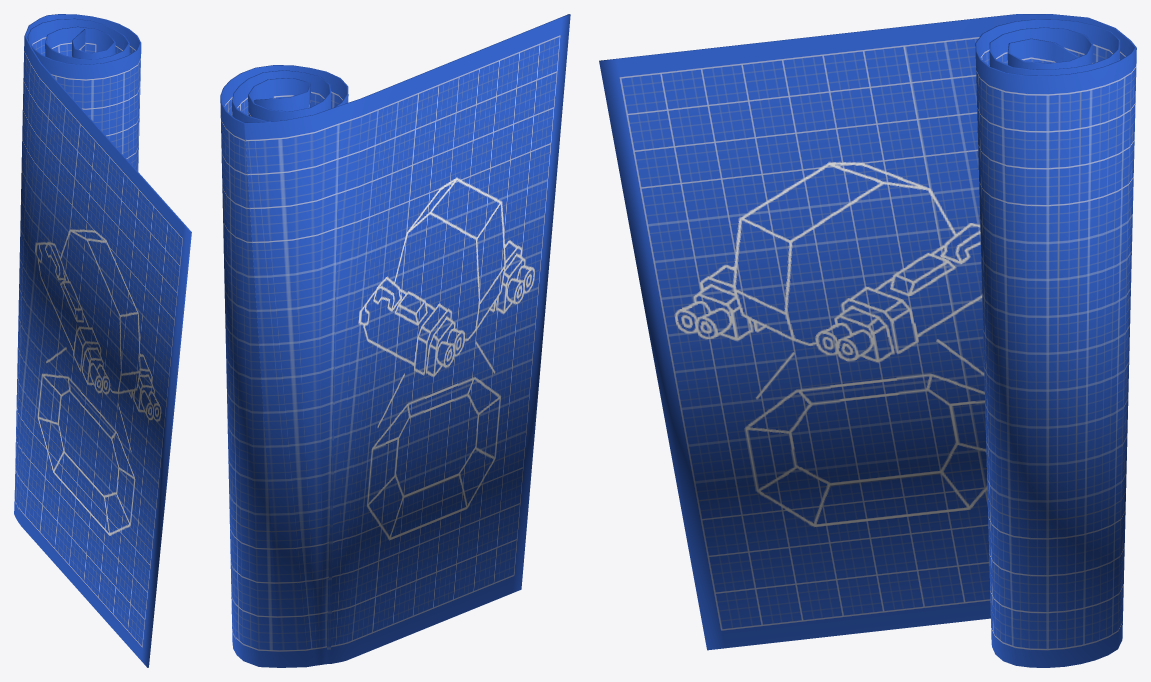
File: plan.glb
3 renders of one model, left to right at view 1: azimuth 30°, elevation 25°; view 2: azimuth 150°, elevation 25°; view 3: azimuth 270°, elevation 25°, orthographic. The views are drawn at different scales.
Visible parts, largest first — view 1: Plane; view 2: Plane; view 3: Plane.
Boxes of the visible parts, x1,y1,x2,y2 form: Plane: (14,14,191,667); Plane: (220,14,570,667); Plane: (599,14,1136,667).
Size of the model in its own units: 0.5884 by 2.47 by 1.85.
Materials: 1 (1 with a texture image).
